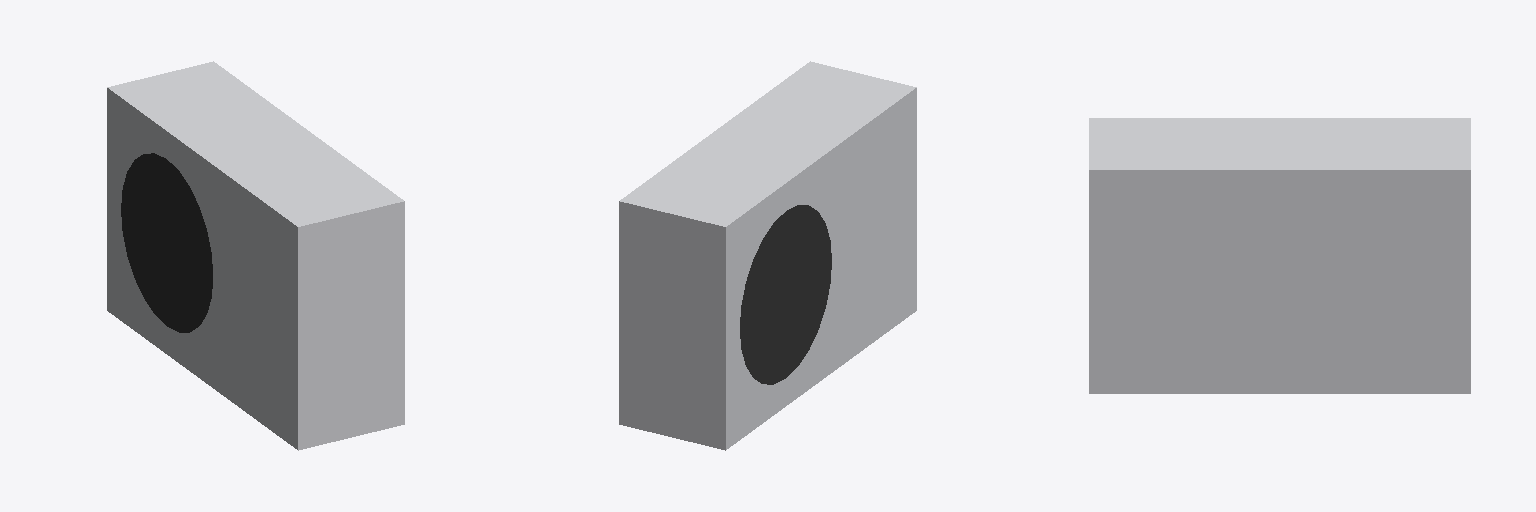
Rendered from modularBuildings_073.obj.
The picture shows the model from 3 angles: view 1: azimuth 30°, elevation 25°; view 2: azimuth 150°, elevation 25°; view 3: azimuth 270°, elevation 25°; orthographic projection.
Visible parts, largest first — view 1: Mesh1 Group1 Model; view 2: Mesh1 Group1 Model; view 3: Mesh1 Group1 Model.
Boxes of the visible parts, x1=… form: Mesh1 Group1 Model: x1=107, y1=61, x2=404, y2=450; Mesh1 Group1 Model: x1=619, y1=61, x2=916, y2=450; Mesh1 Group1 Model: x1=1089, y1=118, x2=1470, y2=393.
Size of the model in its own units: 0.1 by 0.2 by 0.31.